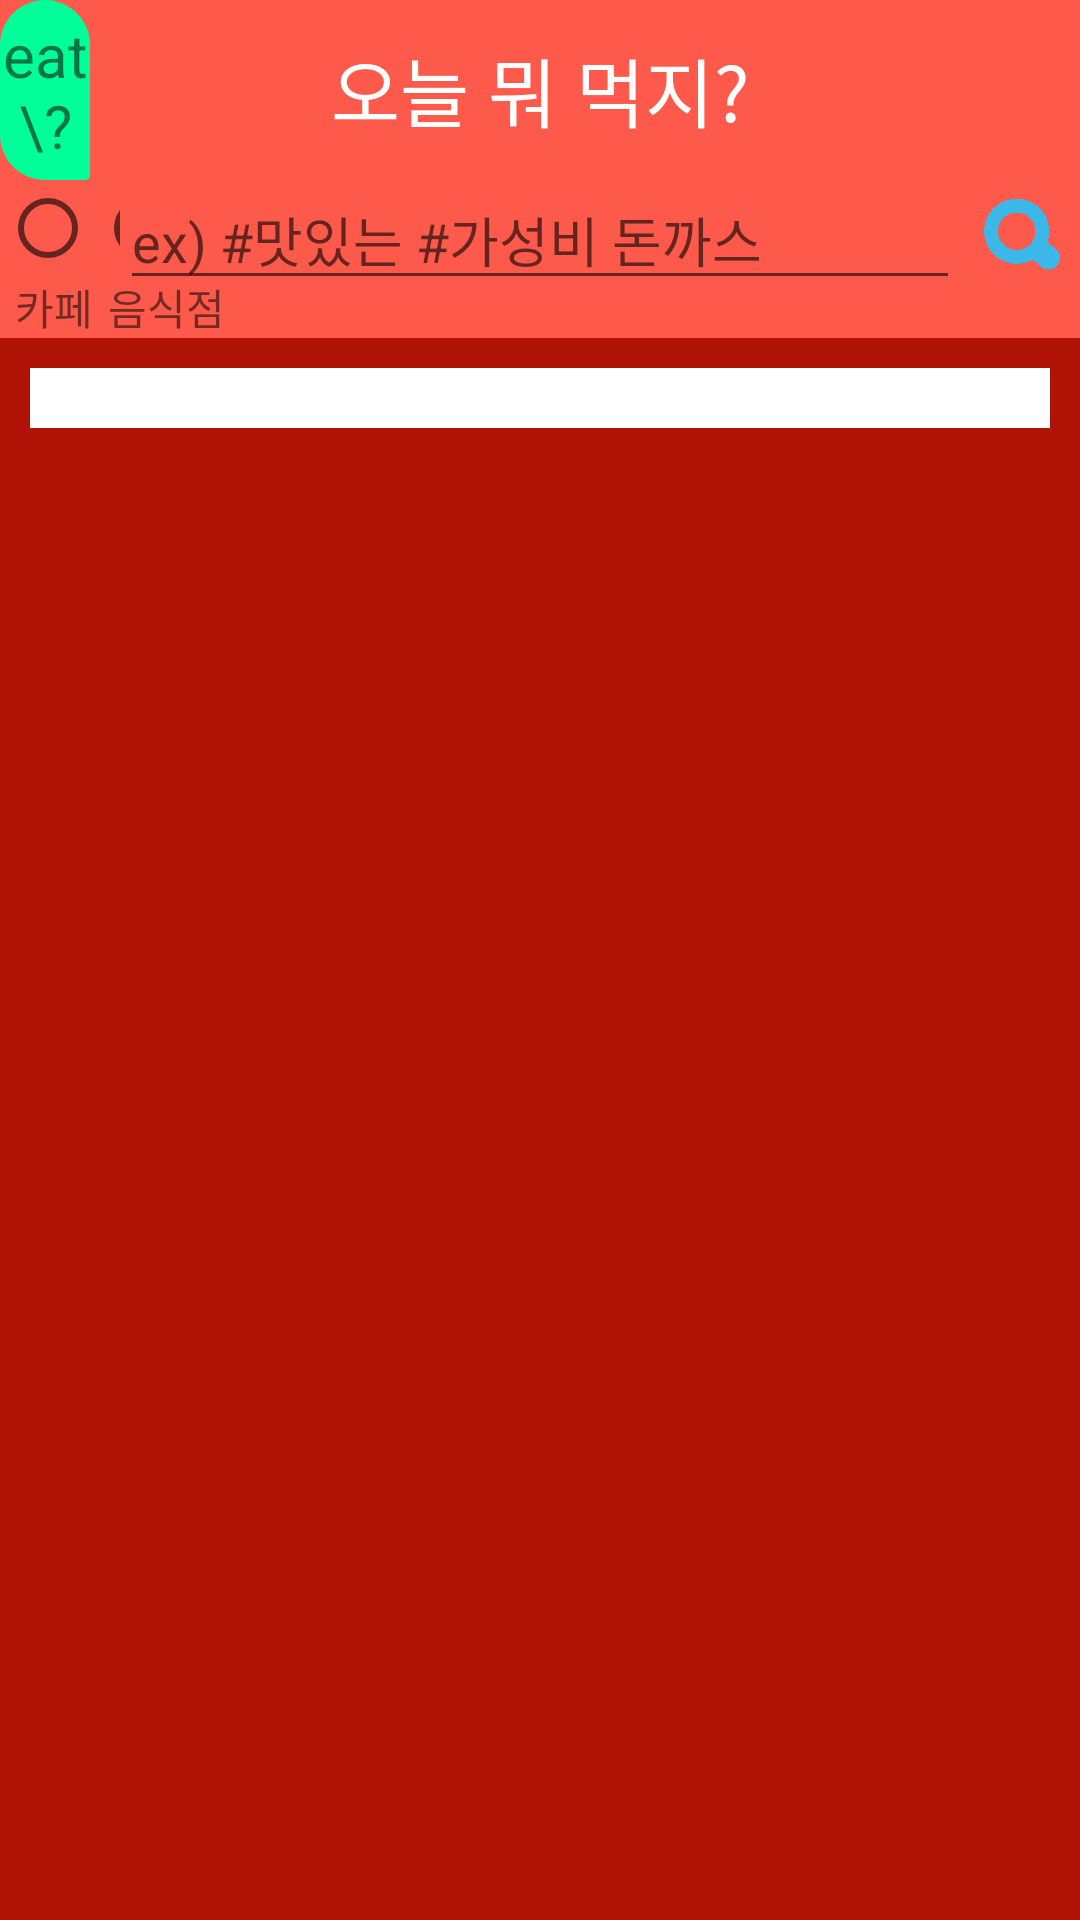

Icons on this 1080w x 1920h Android screen, each with the point to tap as (x=x, y=y):
pngtree search: (x=1022, y=234)
